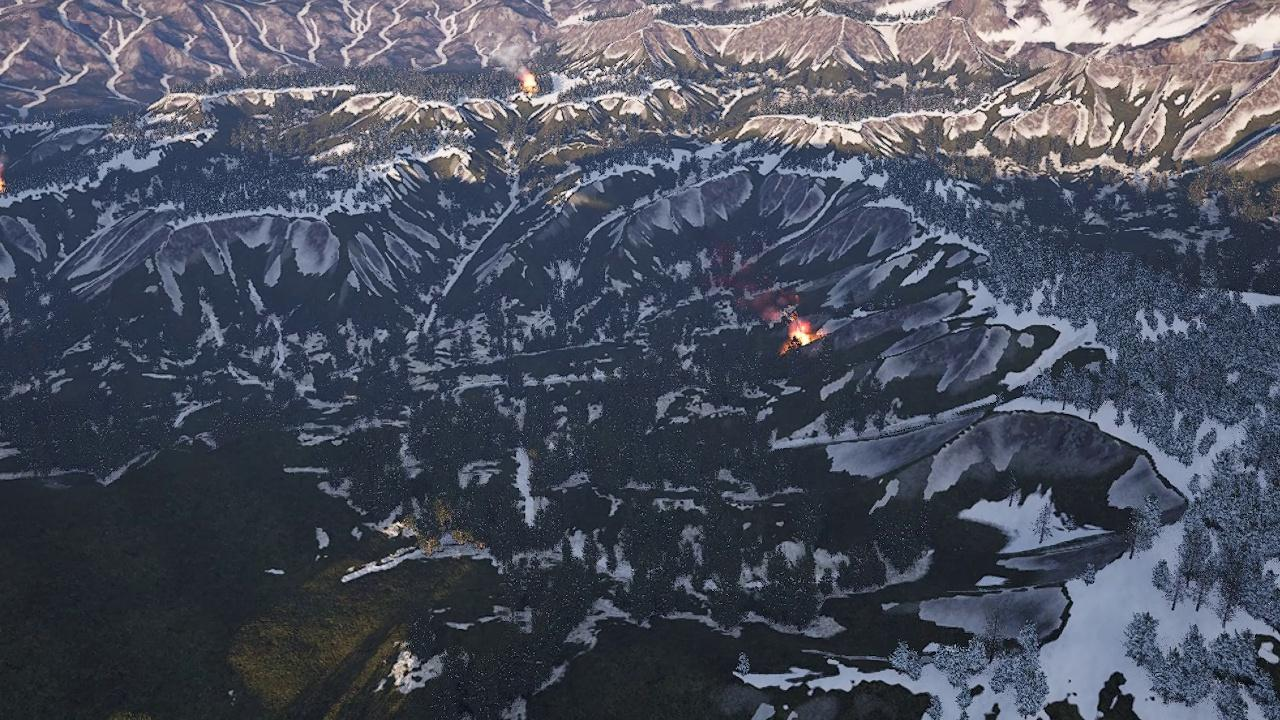fire: (784, 320, 815, 349), (523, 72, 540, 92)
smoke: (720, 263, 803, 328), (484, 24, 534, 72)
